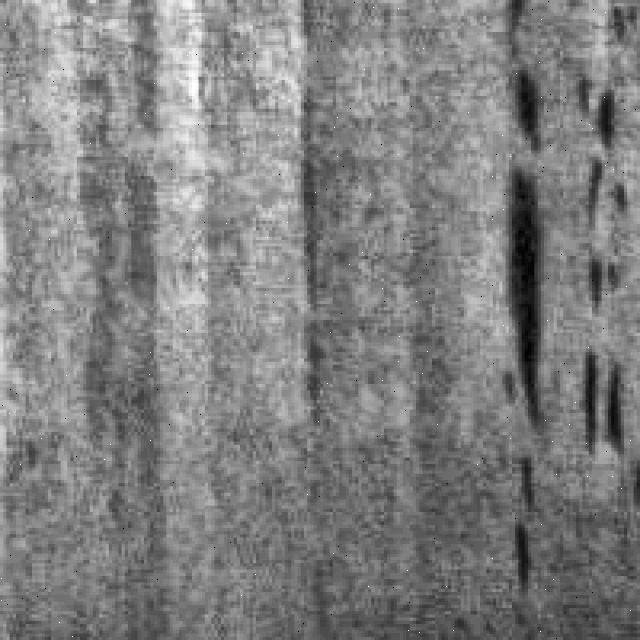Patches: (86, 19, 180, 579), (282, 7, 352, 436), (499, 148, 576, 438), (496, 435, 557, 605), (582, 156, 637, 340), (576, 333, 634, 464), (579, 60, 634, 164), (508, 58, 554, 154)
